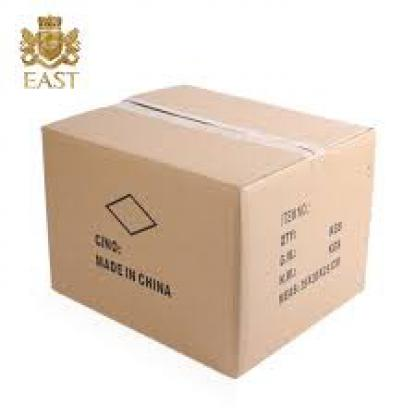CARDBOARD: (39, 84, 373, 376)
